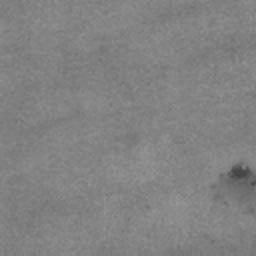Iron sheet ash: (233, 161, 250, 180)
